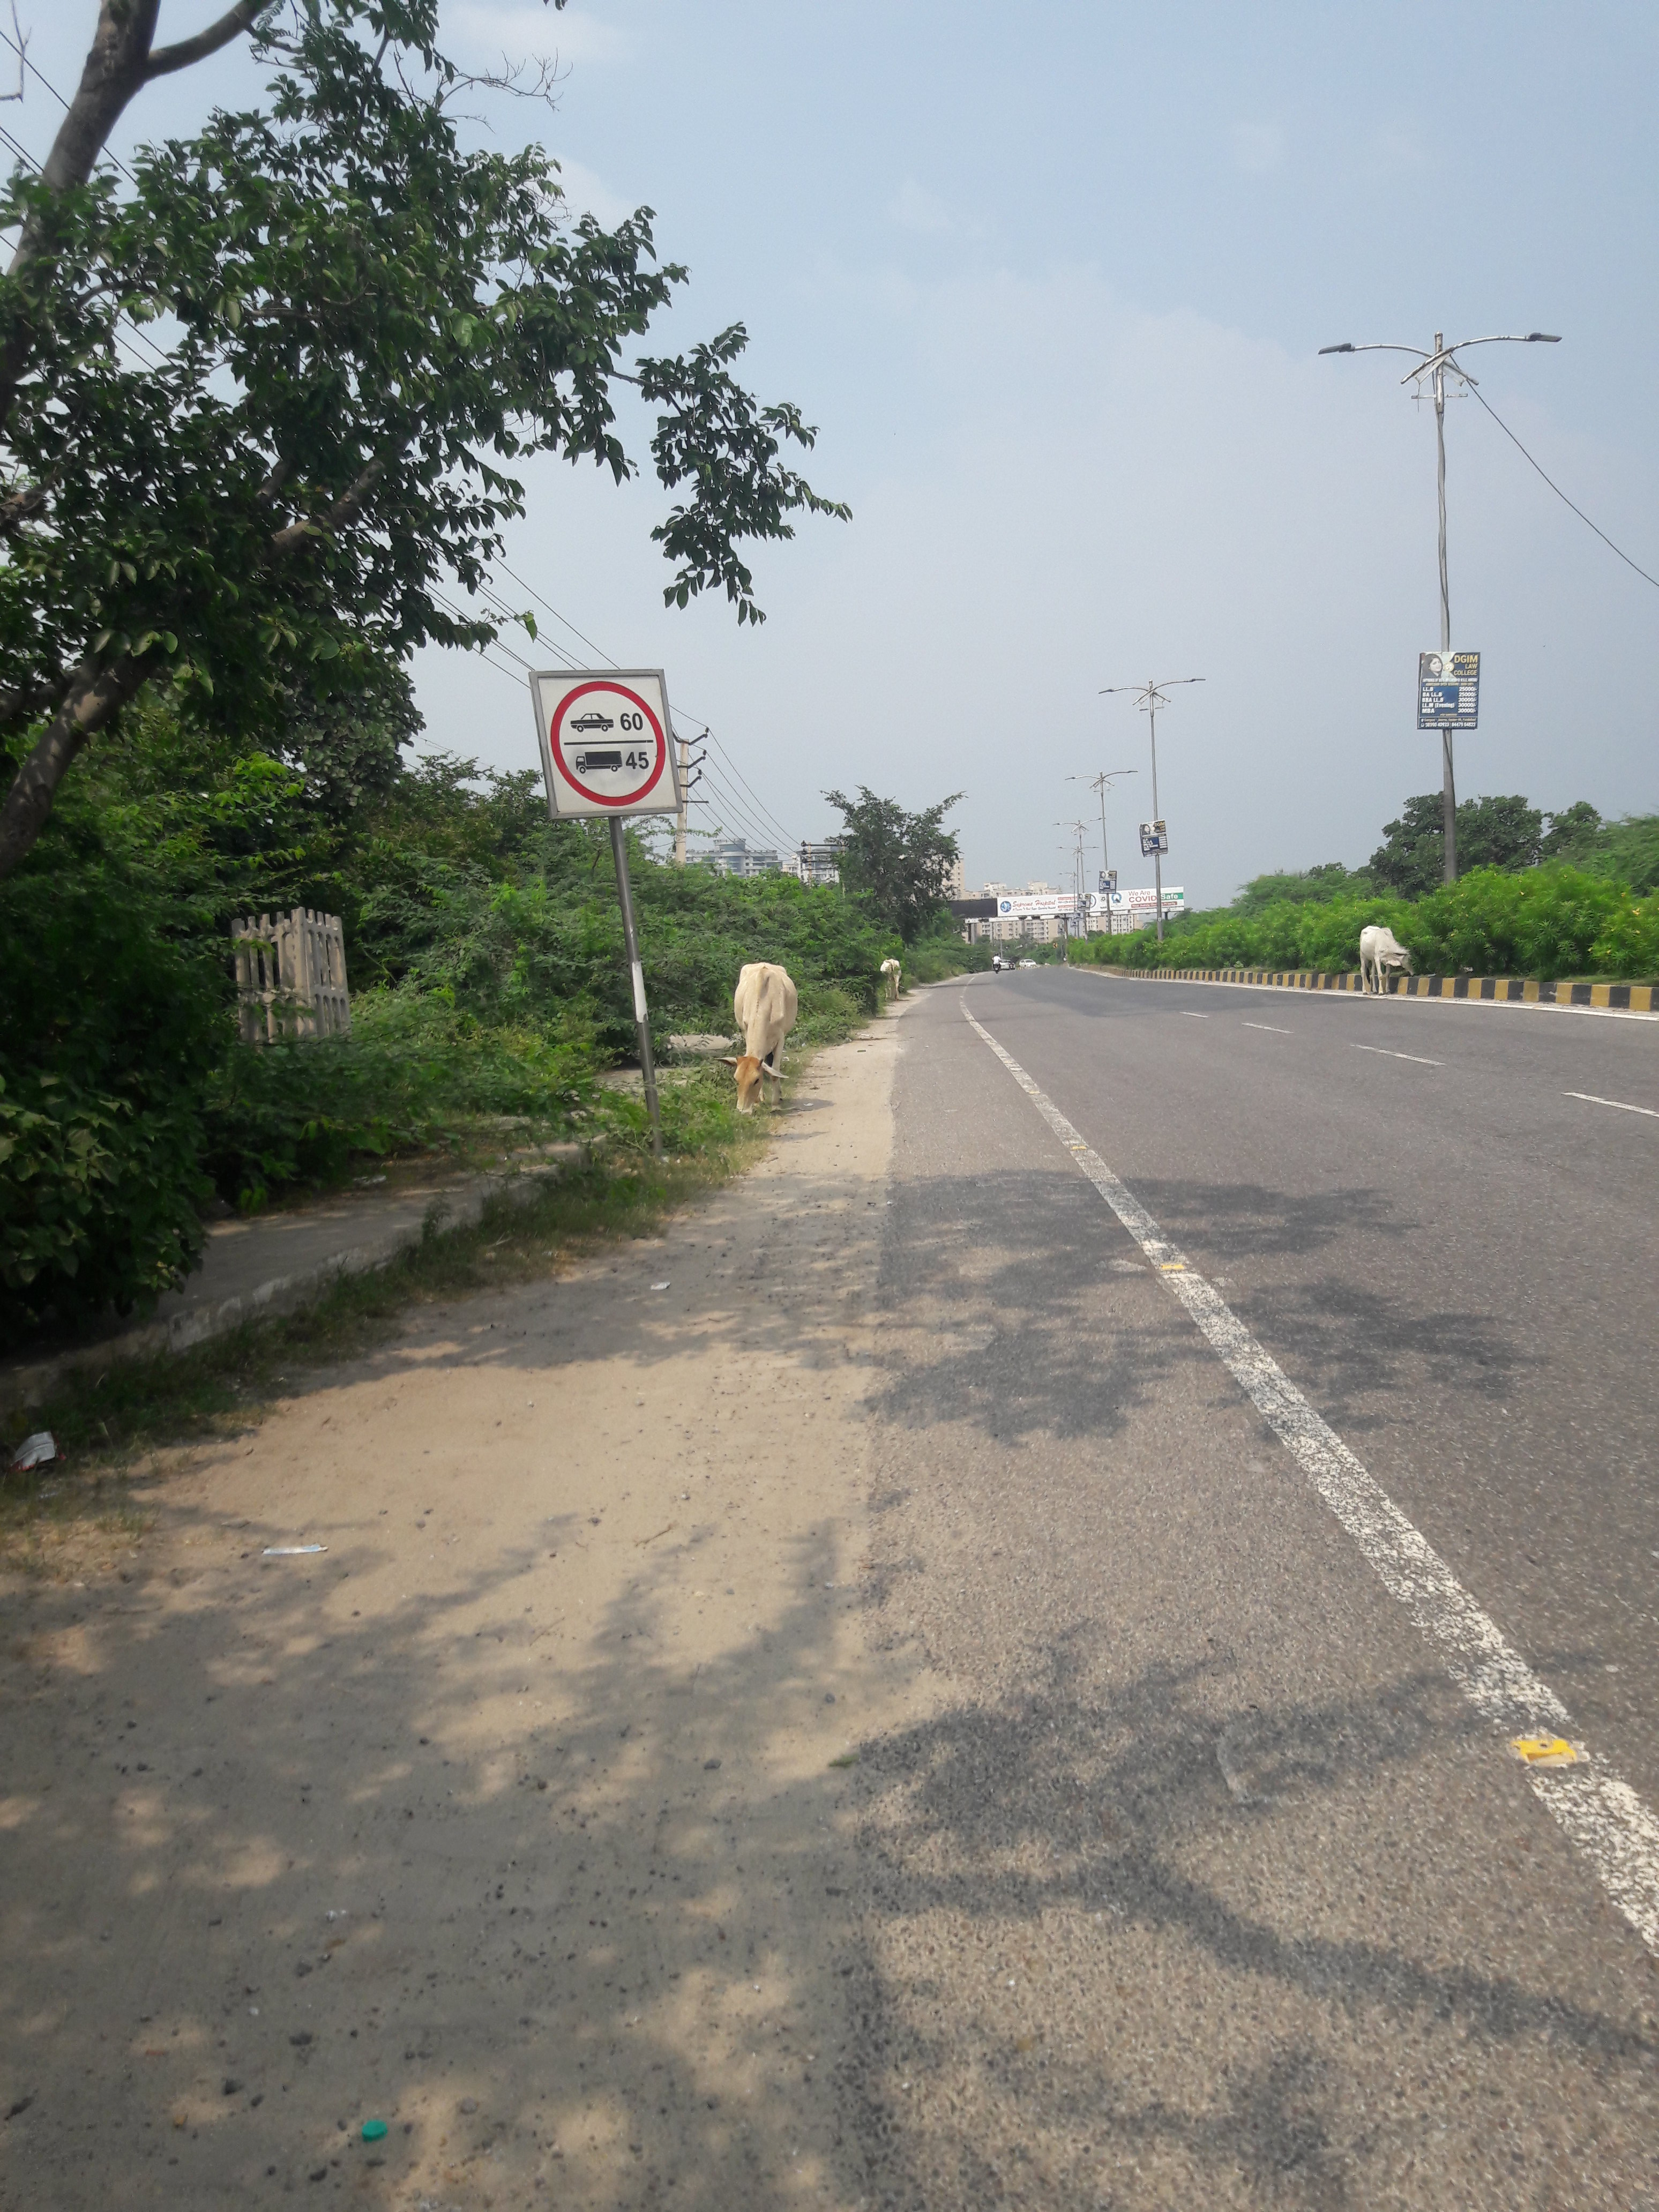traffic_sign: (526, 671, 695, 815)
